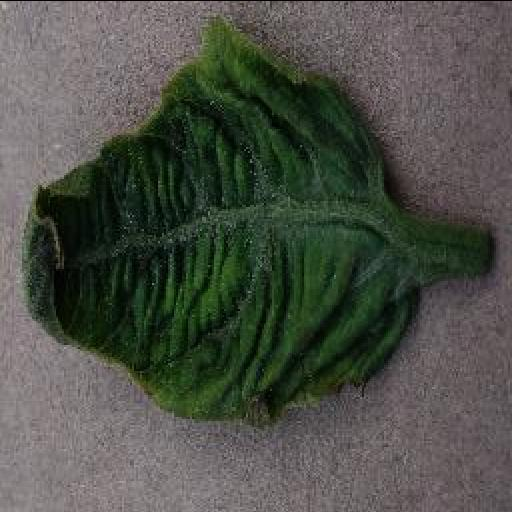disease_tomato: (18, 12, 420, 434)
